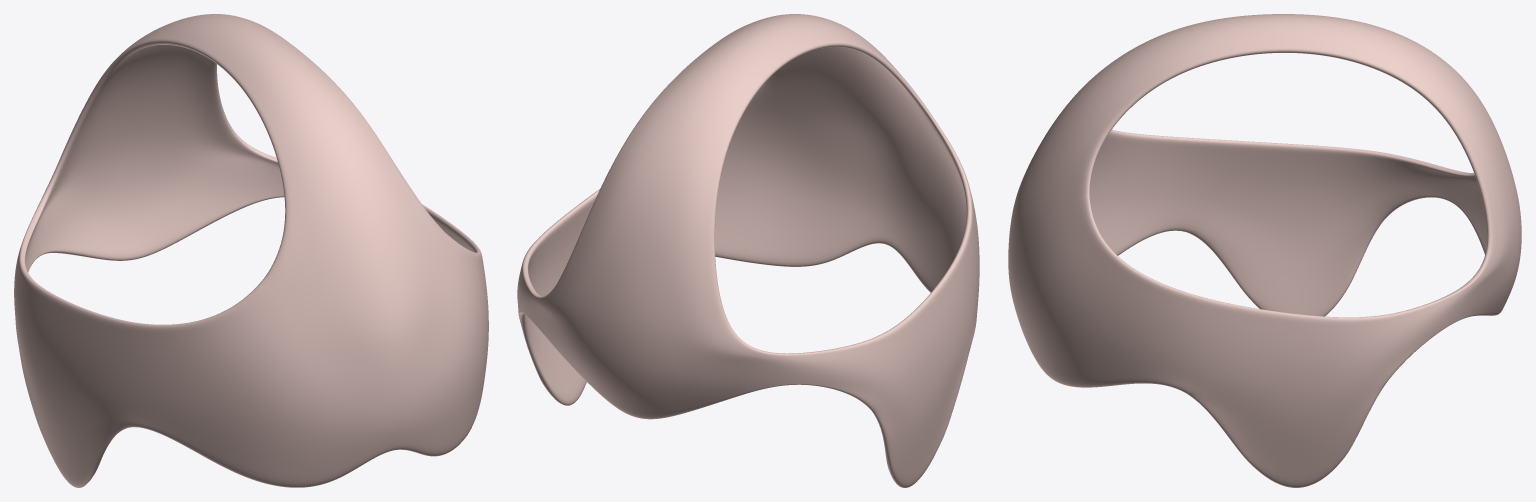
3 renders of one model, left to right at view 1: azimuth 30°, elevation 25°; view 2: azimuth 150°, elevation 25°; view 3: azimuth 270°, elevation 25°, orthographic. The views are drawn at different scales.
Visible parts, largest first — view 1: Cube.003; view 2: Cube.003; view 3: Cube.003.
Part boxes in pixels (x1,y1,x2,y2): Cube.003: (14, 14, 488, 487); Cube.003: (517, 14, 979, 487); Cube.003: (1008, 14, 1521, 487).
Size of the model in its own units: 1.36 by 1.38 by 1.65.
